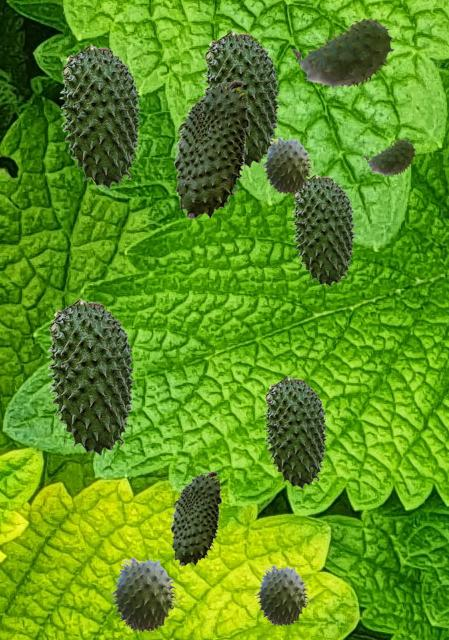guyabano: (46, 297, 135, 455), (59, 43, 141, 188), (202, 29, 280, 167), (173, 80, 249, 218), (292, 18, 393, 90), (291, 173, 355, 286), (263, 375, 327, 488), (108, 556, 182, 631), (170, 471, 221, 565), (253, 564, 313, 625), (260, 136, 316, 193), (364, 139, 415, 176)
